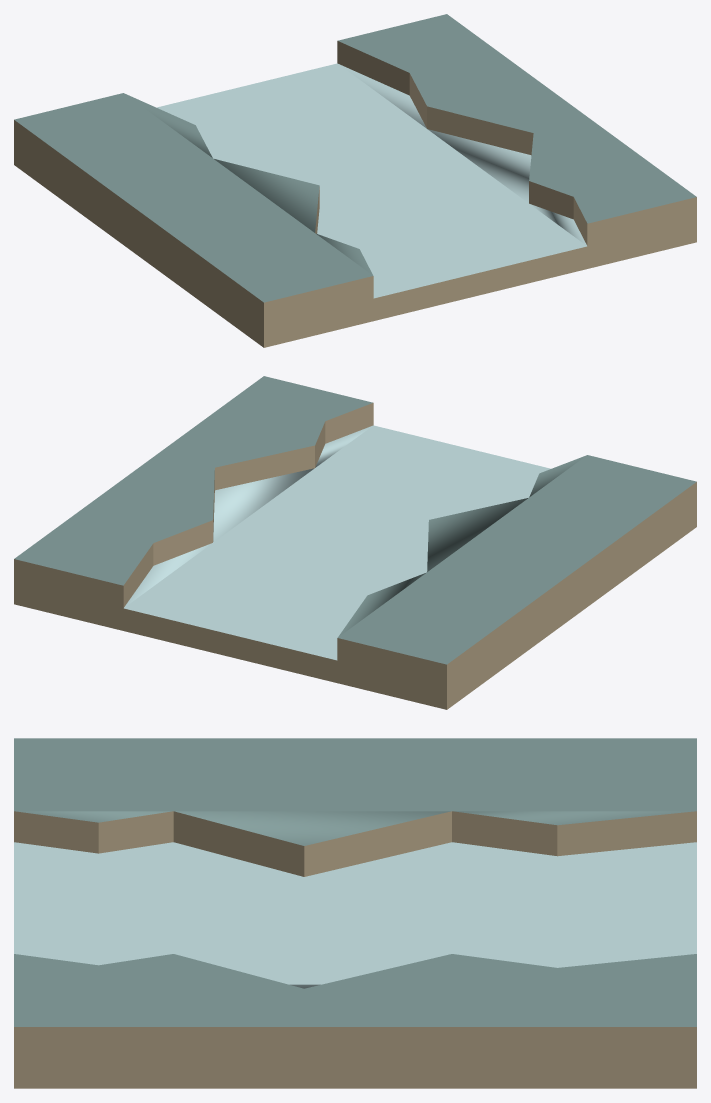
Rendered from Nature River 1.fbx.
3 views of the same model, one above another, from view 1: azimuth 30°, elevation 25°; view 2: azimuth 150°, elevation 25°; view 3: azimuth 270°, elevation 25° (orthographic). The views are drawn at different scales.
Parts seen in each view (by area): view 1: Nature River 1; view 2: Nature River 1; view 3: Nature River 1.
Boxes of the visible parts, box(x1,y1,x2,y2) form: Nature River 1: box(14, 14, 696, 347); Nature River 1: box(14, 376, 696, 709); Nature River 1: box(14, 738, 696, 1088).
Size of the model in its own units: 3 by 0.3 by 3.
